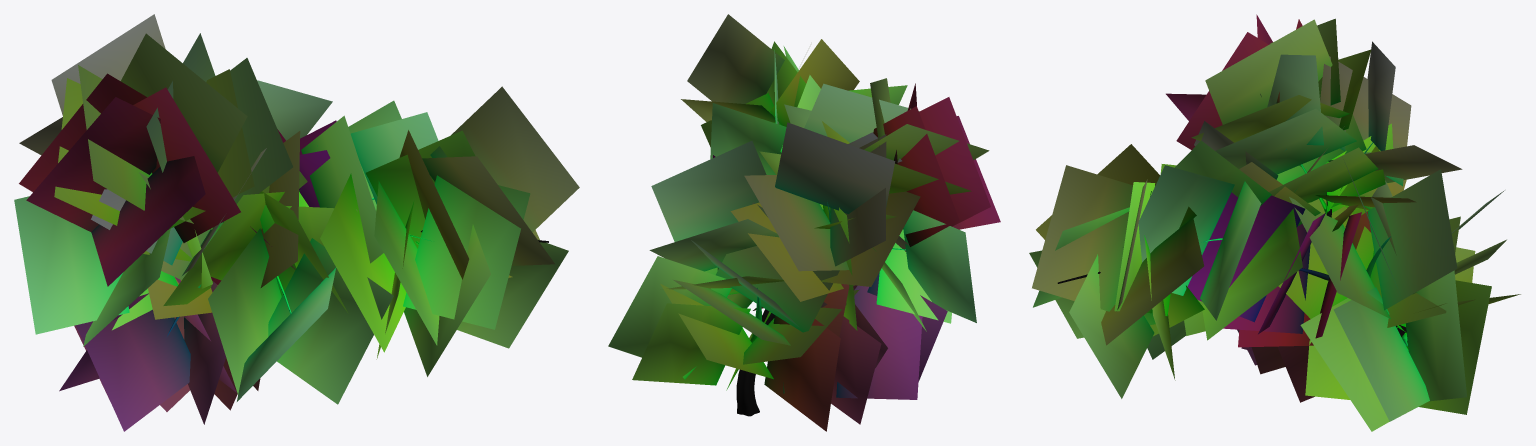
The model's file is URP_P15_Tree_8_LOD_0.fbx.
The picture shows the model from 3 angles, left to right: view 1: azimuth 30°, elevation 25°; view 2: azimuth 150°, elevation 25°; view 3: azimuth 270°, elevation 25°; orthographic projection. The views are drawn at different scales.
Visible parts, largest first — view 1: Tree_8_LOD_0; view 2: Tree_8_LOD_0; view 3: Tree_8_LOD_0.
Part boxes in pixels (left/top/right/bottom): Tree_8_LOD_0: left=14, top=14, right=579, bottom=431; Tree_8_LOD_0: left=608, top=14, right=1000, bottom=431; Tree_8_LOD_0: left=1029, top=14, right=1520, bottom=431.
Size of the model in its own units: 709 by 579 by 735.
